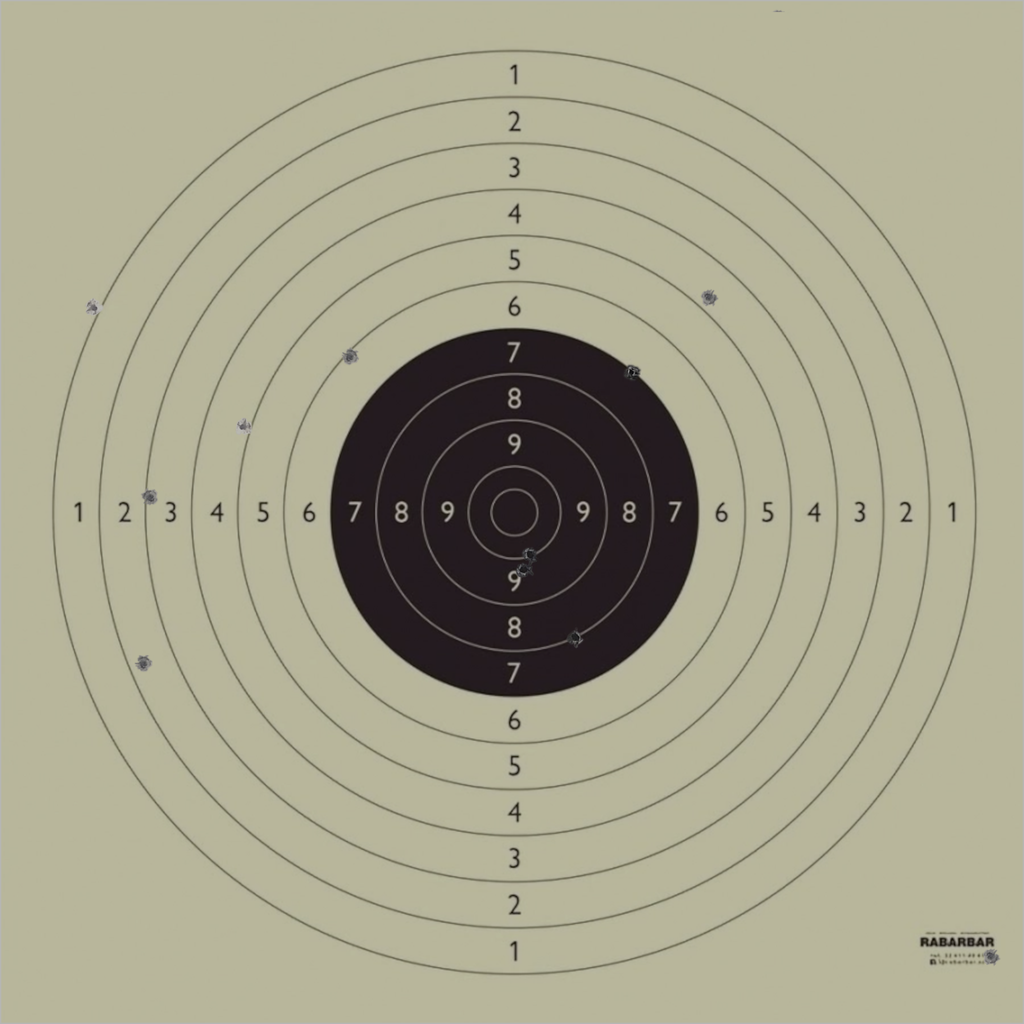0 punktow: (982, 947, 1000, 965)
1 punkt: (85, 299, 103, 317)
10 punktow: (521, 546, 539, 564)
2 punkty: (134, 655, 153, 673)
3 punkty: (141, 488, 160, 507)
4 punkty: (700, 288, 718, 306)
5 punktow: (234, 417, 252, 436)
6 punktow: (341, 348, 359, 366)
7 punktow: (622, 363, 641, 381)
8 punktow: (566, 629, 585, 647)
9 punktow: (515, 561, 533, 579)
